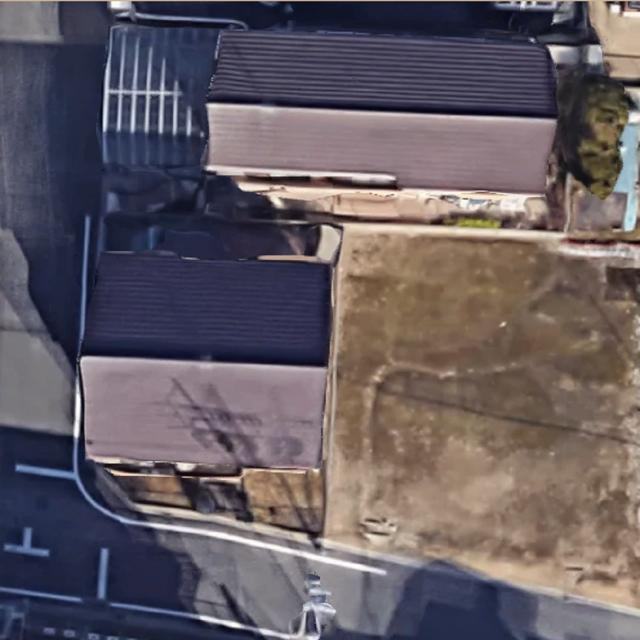Batiment: (207, 31, 556, 192), (80, 355, 328, 468)
